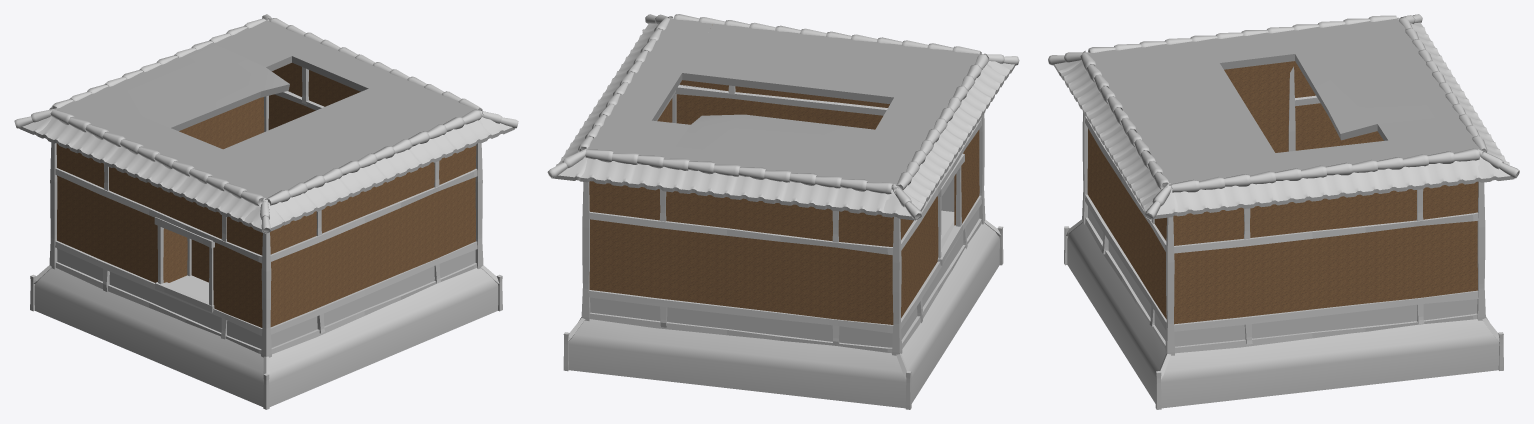
Rendered from temple building.fbx.
3 renders of one model, left to right at view 1: azimuth 30°, elevation 25°; view 2: azimuth 150°, elevation 25°; view 3: azimuth 270°, elevation 25°, orthographic. The views are drawn at different scales.
Visible parts, largest first — view 1: polySurface675, Temple_building, roof1, polySurface664, compnent, polySurface696, polySurface663, polySurface661, polySurface699, polySurface716, polySurface754; view 2: polySurface675, polySurface661, Temple_building, roof1, compnent, polySurface664, polySurface696, polySurface699; view 3: polySurface675, polySurface663, Temple_building, roof1, compnent, polySurface664, polySurface696, polySurface790, polySurface699, polySurface761.
Boxes of the visible parts, box(x1,y1,x2,y2) form: polySurface675: box(54, 20, 478, 199); Temple_building: box(34, 248, 498, 406); roof1: box(14, 14, 518, 233); polySurface664: box(270, 145, 476, 326); compnent: box(30, 91, 502, 409); polySurface696: box(56, 143, 262, 327); polySurface663: box(268, 63, 360, 129); polySurface661: box(179, 97, 264, 149); polySurface699: box(164, 67, 324, 300); polySurface716: box(164, 242, 187, 282); polySurface754: box(191, 243, 209, 282); polySurface675: box(586, 18, 980, 186); polySurface661: box(589, 181, 893, 324); Temple_building: box(568, 208, 999, 408); roof1: box(547, 14, 1019, 220); compnent: box(563, 84, 1003, 409); polySurface664: box(676, 80, 889, 129); polySurface696: box(900, 130, 979, 317); polySurface699: box(656, 85, 954, 249); polySurface675: box(1086, 17, 1481, 185); polySurface663: box(1173, 181, 1478, 324); Temple_building: box(1067, 207, 1499, 408); roof1: box(1048, 14, 1519, 219); compnent: box(1064, 113, 1503, 409); polySurface664: box(1087, 128, 1166, 319); polySurface696: box(1294, 61, 1383, 150); polySurface790: box(1256, 90, 1289, 128); polySurface699: box(1288, 66, 1320, 151); polySurface761: box(1260, 125, 1288, 152).
Size of the model in its own units: 4841 by 2473 by 4841.
